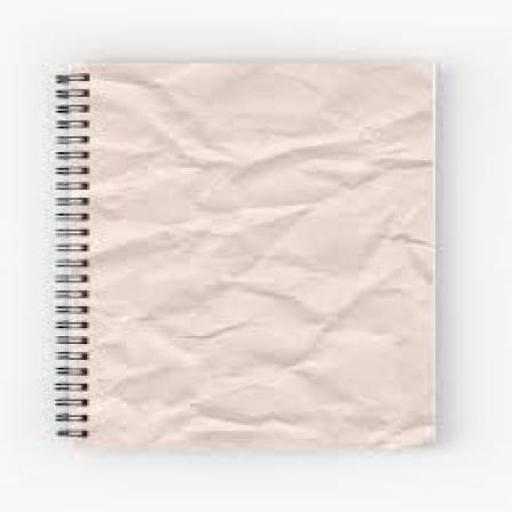paper: (23, 28, 478, 495)
